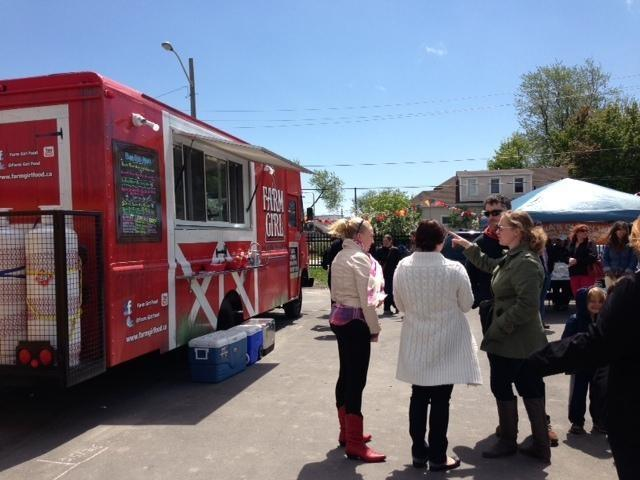bus: (1, 72, 316, 366)
truck: (1, 76, 305, 384)
